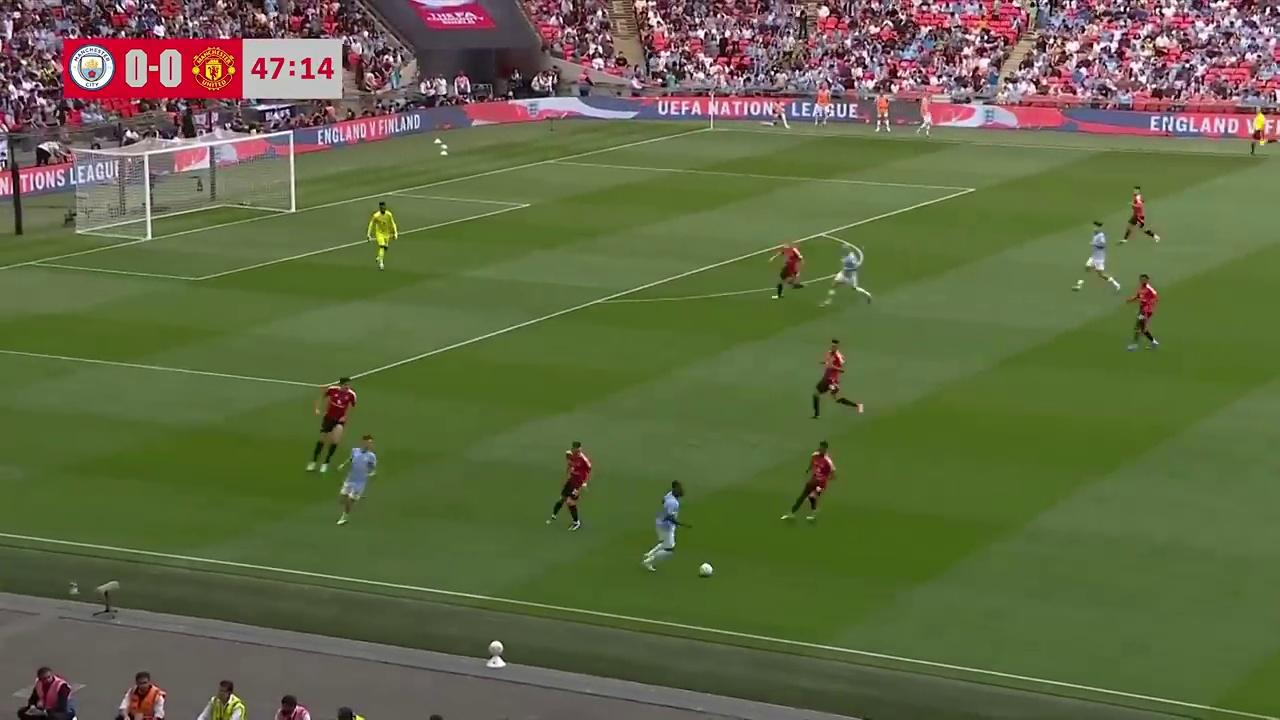ball: (699, 559, 714, 578)
player: (305, 377, 357, 476), (779, 440, 836, 524), (547, 440, 592, 530), (641, 480, 686, 570), (811, 338, 862, 417), (334, 432, 377, 525), (1073, 221, 1118, 290), (822, 244, 871, 304), (1125, 274, 1159, 350), (1119, 186, 1161, 244), (769, 240, 806, 299), (367, 202, 397, 270)
referee: (1248, 107, 1271, 155)
